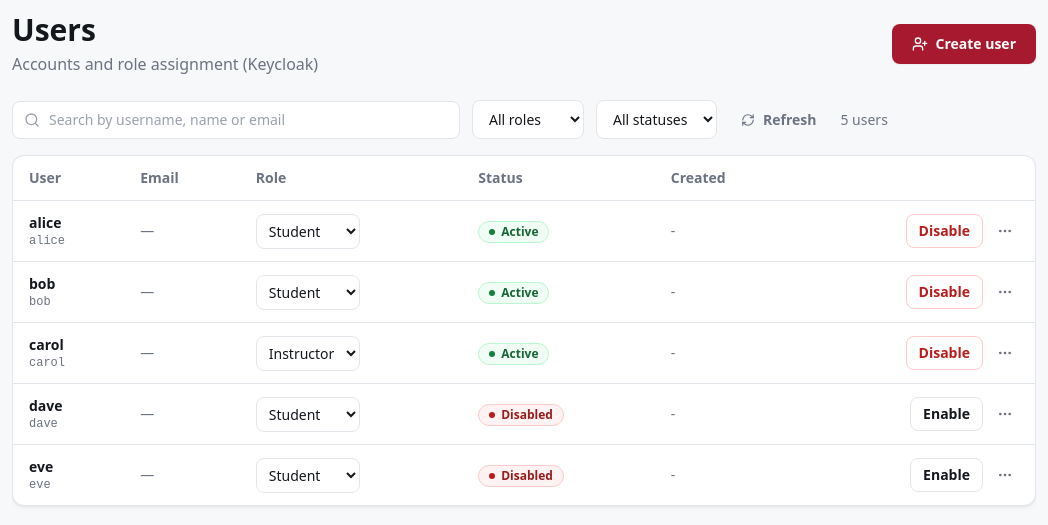
Test: keeps the table narrow: no reports column, less-used actions in the ⋯ menu
The image size is (1048, 525).
Click the button named "More actions for bob" at (1005, 292), box [991, 278, 1019, 306]
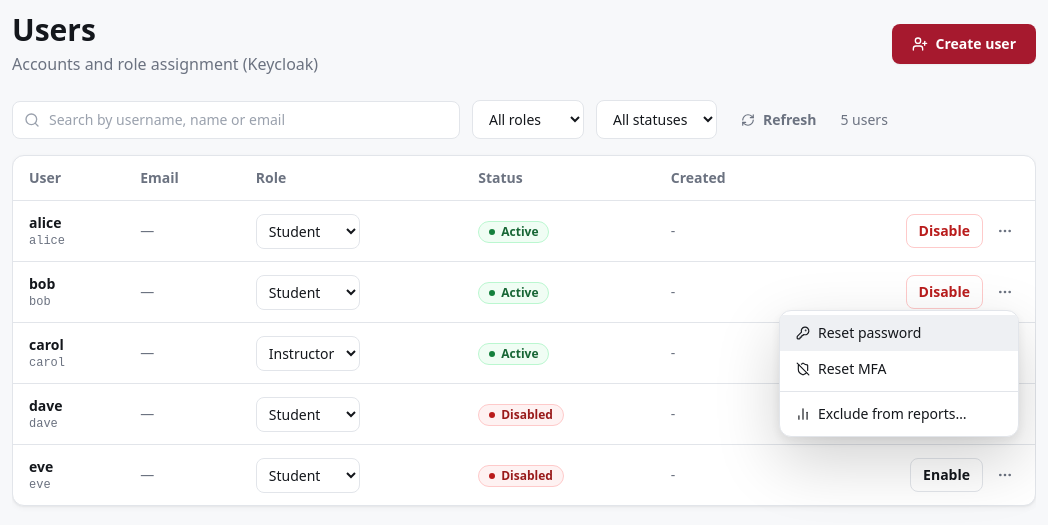
Expected: the menu items read "Reset password", "Reset MFA", "Exclude from reports…", in this order, [780, 315, 1018, 351]; [780, 351, 1018, 387]; [780, 396, 1018, 432]
